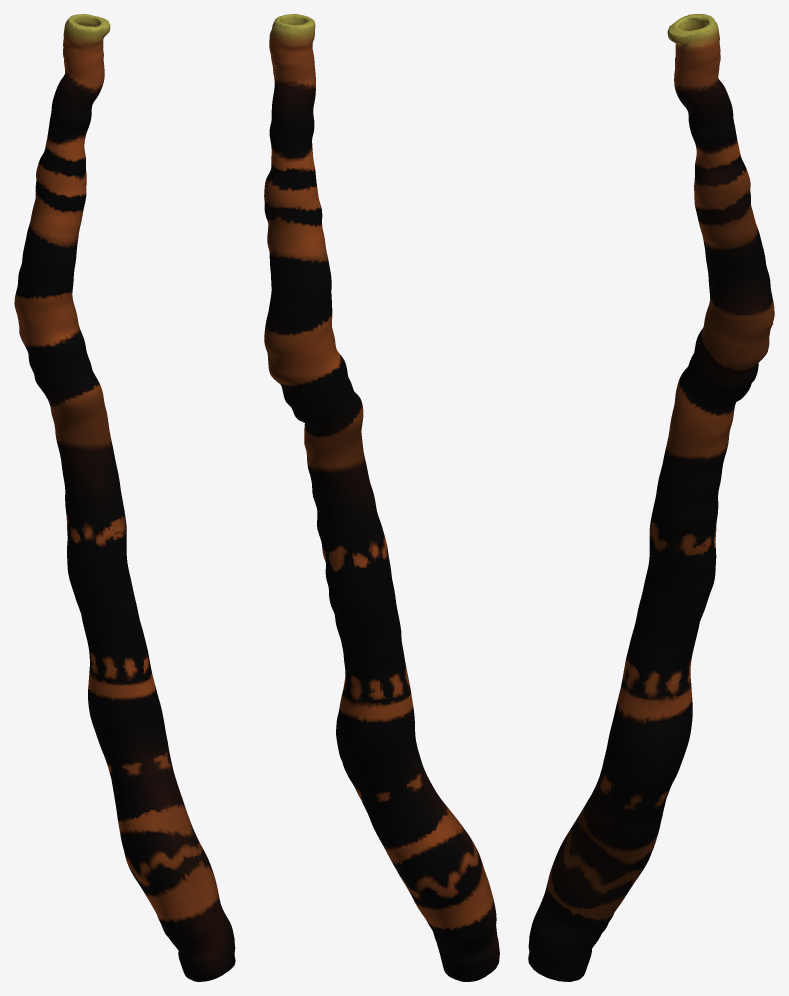
File: didj.glb
3 renders of one model, left to right at view 1: azimuth 90°, elevation 25°; view 2: azimuth 150°, elevation 25°; view 3: azimuth 270°, elevation 25°, orthographic. The views are drawn at different scales.
Visible parts, largest first — view 1: Layer_1; view 2: Layer_1; view 3: Layer_1.
Boxes of the visible parts, <box> form: Layer_1: <box>14,14,235,981</box>; Layer_1: <box>264,14,499,981</box>; Layer_1: <box>528,14,774,981</box>.
Bounding box in the file's own units: 0.4757 × 2.76 × 0.6091.
